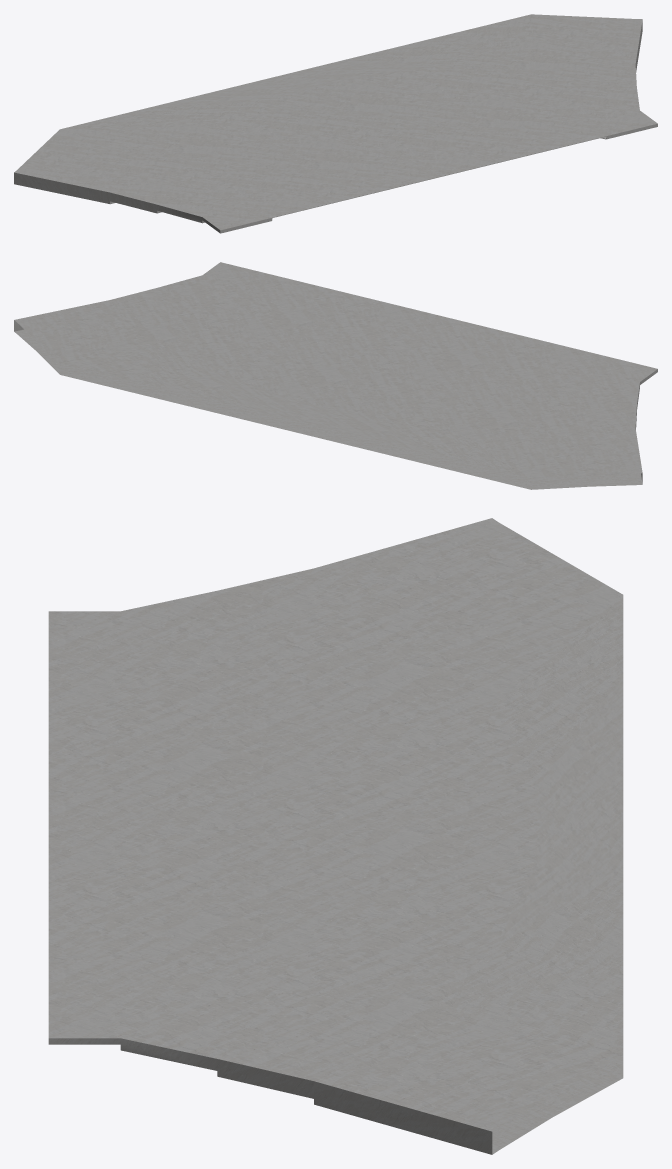
File: ULT_Ceiling.FBX
3 renders of one model, top to bottom at view 1: azimuth 30°, elevation 25°; view 2: azimuth 150°, elevation 25°; view 3: azimuth 270°, elevation 25°, orthographic. The views are drawn at different scales.
Parts seen in each view (by area): view 1: ULT_Ceiling; view 2: ULT_Ceiling; view 3: ULT_Ceiling.
Part boxes in pixels (x1,y1,x2,y2): ULT_Ceiling: (14, 14, 657, 233); ULT_Ceiling: (14, 262, 657, 489); ULT_Ceiling: (48, 518, 623, 1154).
Size of the model in its own units: 40767 by 724 by 16138.
